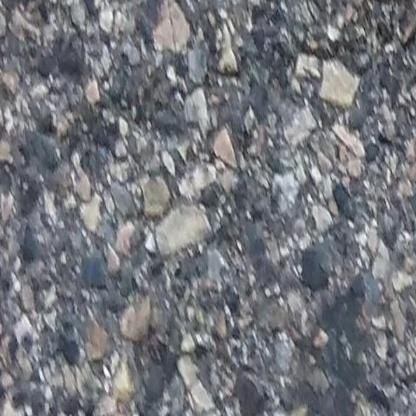Cracks: (312, 15, 416, 50)
